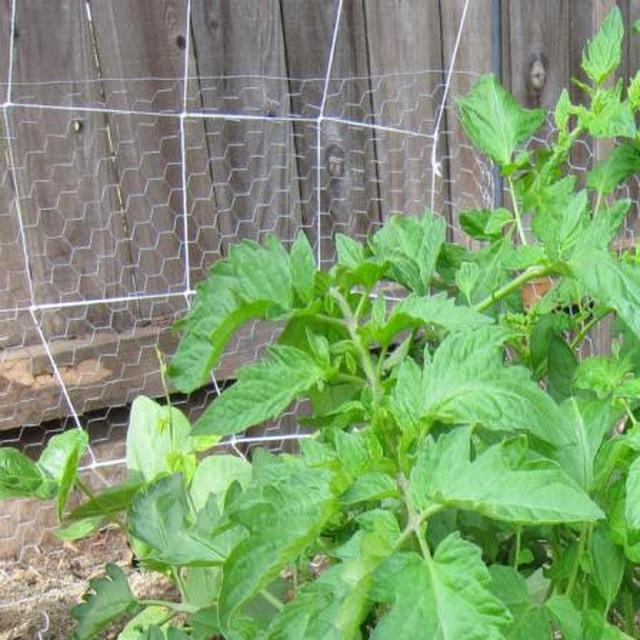Healthy Leaf: (51, 83, 640, 640)
